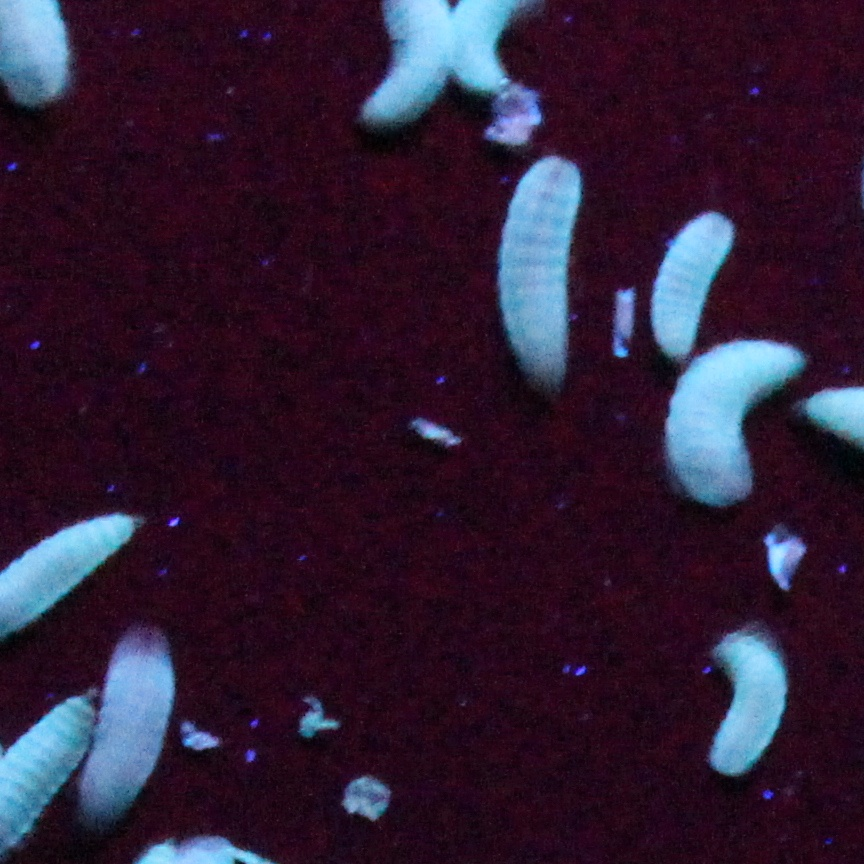larve: (666, 341, 799, 508), (506, 156, 586, 376), (106, 630, 178, 830), (648, 208, 734, 356), (719, 636, 786, 782)
